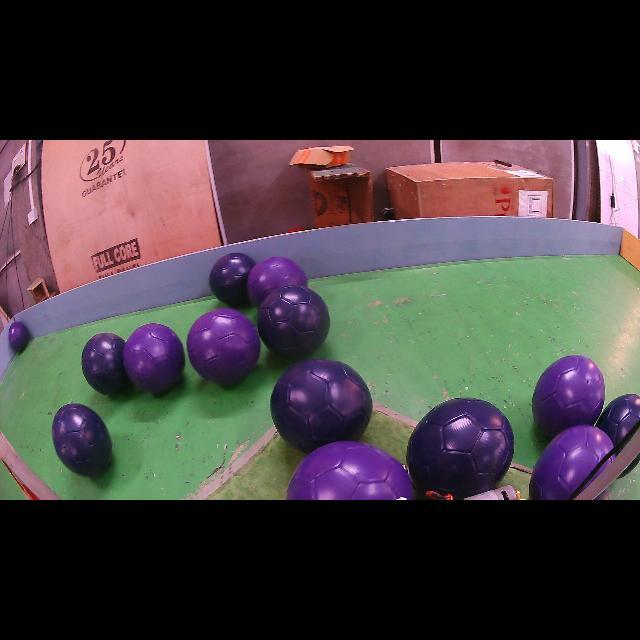B: (406, 398, 515, 499), (270, 359, 372, 452), (258, 285, 330, 358), (51, 404, 112, 478), (81, 332, 129, 395), (209, 252, 255, 305), (596, 394, 640, 445)
P: (288, 441, 414, 500), (529, 425, 614, 499), (532, 355, 605, 439), (188, 309, 260, 385), (122, 324, 185, 394), (248, 256, 308, 306), (9, 321, 29, 351)
